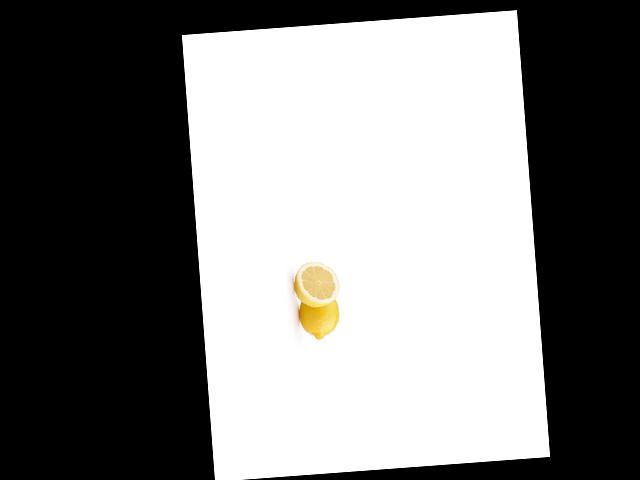lemon: (293, 291, 343, 343)
